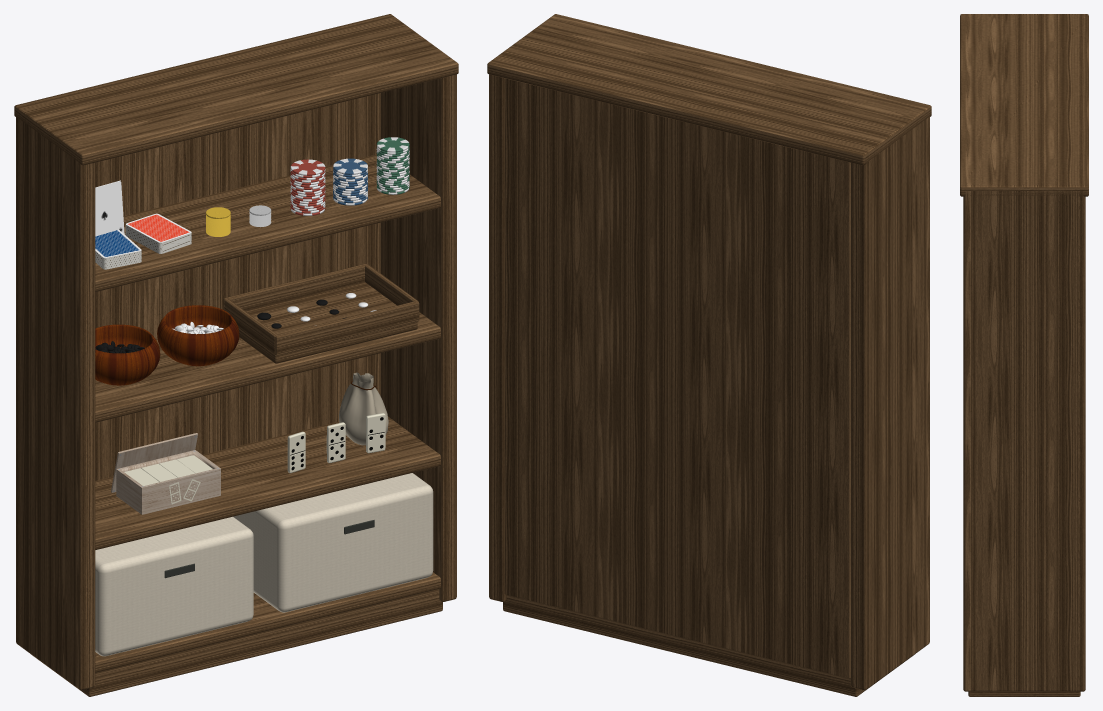
The model's file is cozy-game-shelf.glb.
The picture shows the model from 3 angles, left to right: view 1: azimuth 30°, elevation 25°; view 2: azimuth 150°, elevation 25°; view 3: azimuth 270°, elevation 25°; orthographic projection. The views are drawn at different scales.
Parts seen in each view (by area): view 1: cozy-game-shelf - Cozy satin oak.003, cozy-game-shelf - Cozy natural linen shade.003, cozy-game-shelf - bowlTex, Domino box - boxTexture, cozy-game-shelf - white, cozy-game-shelf - bag, cozy-game-shelf - base, Domino box - lidTexture, cozy-game-shelf - Material_4, cozy-game-shelf - Material_1, Domino box - dominoBase, cozy-game-shelf - accent (+5 smaller); view 2: cozy-game-shelf - Cozy satin oak.003; view 3: cozy-game-shelf - Cozy satin oak.003.
Boxes of the visible parts, box(x1,y1,x2,y2) form: cozy-game-shelf - Cozy satin oak.003: box(14, 14, 458, 696); cozy-game-shelf - Cozy natural linen shade.003: box(95, 473, 433, 656); cozy-game-shelf - bowlTex: box(95, 305, 239, 385); Domino box - boxTexture: box(116, 450, 220, 514); cozy-game-shelf - white: box(290, 137, 409, 215); cozy-game-shelf - bag: box(339, 372, 388, 445); cozy-game-shelf - base: box(287, 413, 385, 473); Domino box - lidTexture: box(111, 433, 197, 492); cozy-game-shelf - Material_4: box(95, 181, 124, 236); cozy-game-shelf - Material_1: box(95, 224, 191, 269); Domino box - dominoBase: box(124, 455, 212, 485); cozy-game-shelf - accent: box(290, 159, 325, 215); cozy-game-shelf - Cozy satin oak.003: box(487, 14, 931, 696); cozy-game-shelf - Cozy satin oak.003: box(960, 14, 1088, 696).
Bounding box in the file's own units: 1.24 × 1.72 × 0.39.
29 materials, 10 textured.
